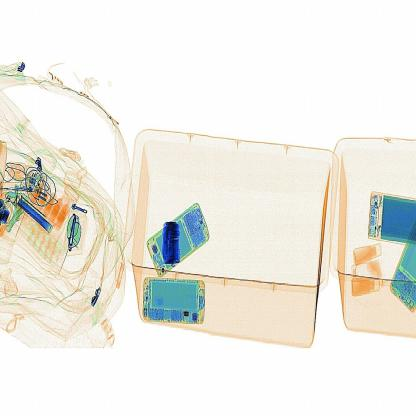scissors: (152, 210, 198, 273)
